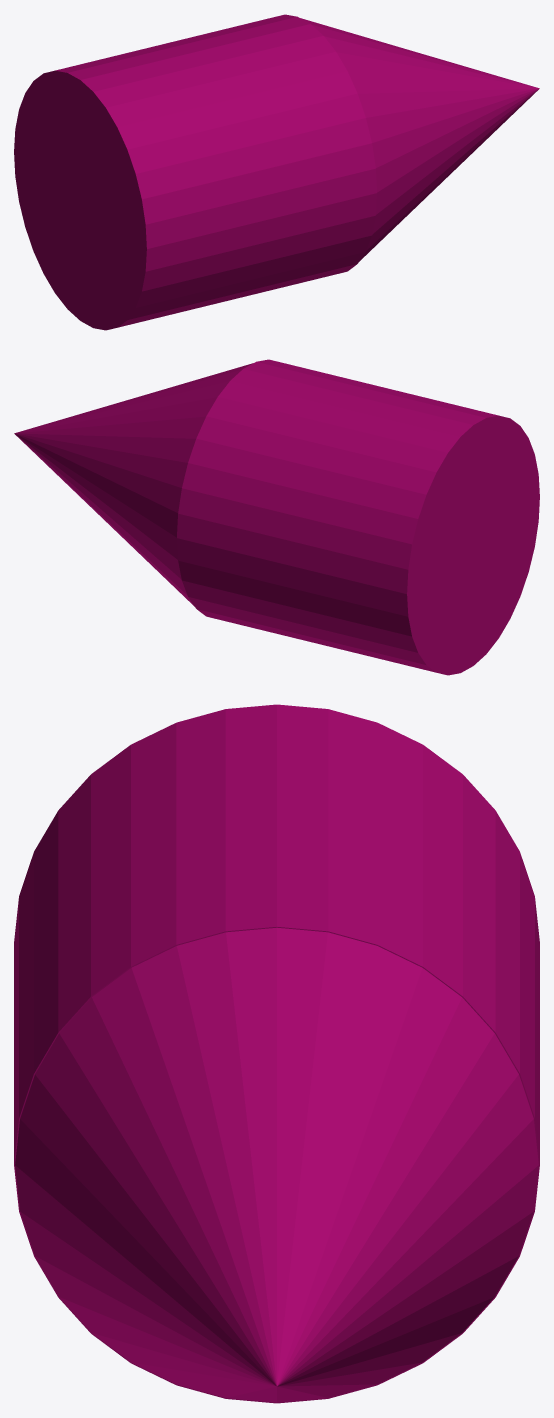
Rendered from shell.obj.
3 views of the same model, one above another, from view 1: azimuth 30°, elevation 25°; view 2: azimuth 150°, elevation 25°; view 3: azimuth 270°, elevation 25° (orthographic). The views are drawn at different scales.
Parts seen in each view (by area): view 1: Cylinder, Cone; view 2: Cylinder, Cone; view 3: Cone, Cylinder.
Part boxes in pixels (x1,y1,x2,y2): Cylinder: (14, 14, 376, 330); Cone: (301, 18, 539, 261); Cylinder: (177, 359, 539, 675); Cone: (14, 363, 252, 606); Cone: (15, 927, 538, 1402); Cylinder: (14, 704, 539, 1403).
Bounding box in the file's own units: 0.9732 × 0.4876 × 0.4876.
